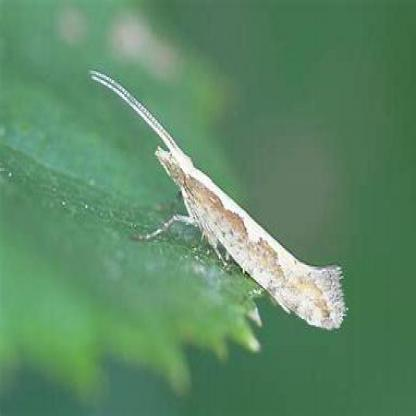plutella: (87, 63, 348, 334)
